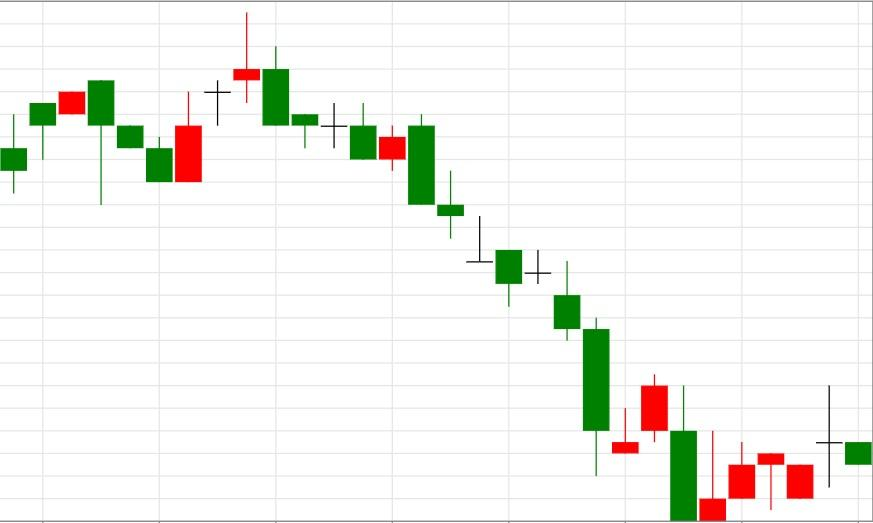bearish_engulfing_fall: (0, 79, 115, 205)
bullish_engulfing_rise: (87, 80, 203, 205)
inverse_hammer_rise: (640, 374, 726, 522)
three_black_crows_fall: (0, 80, 174, 205)
